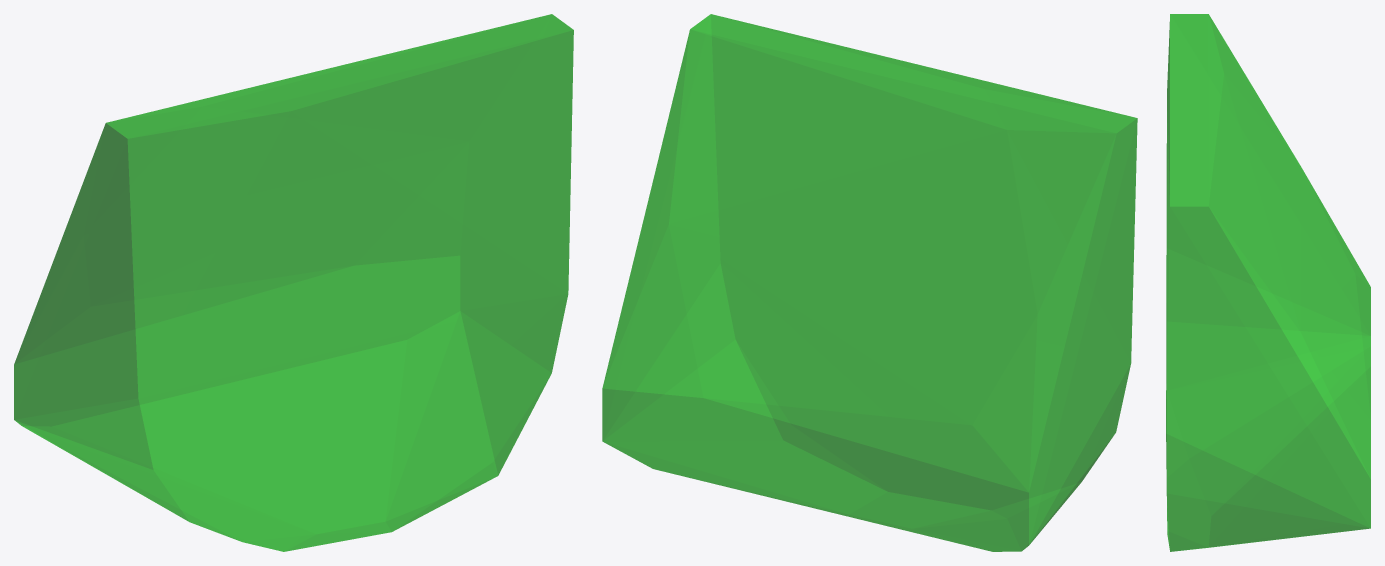
3 renders of one model, left to right at view 1: azimuth 30°, elevation 25°; view 2: azimuth 150°, elevation 25°; view 3: azimuth 270°, elevation 25°, orthographic. The views are drawn at different scales.
Visible parts, largest first — view 1: Shape_IndexedFaceSet.034_Shape_IndexedFaceSet.11826; view 2: Shape_IndexedFaceSet.034_Shape_IndexedFaceSet.11826; view 3: Shape_IndexedFaceSet.034_Shape_IndexedFaceSet.11826.
Part boxes in pixels (x1=…): Shape_IndexedFaceSet.034_Shape_IndexedFaceSet.11826: x1=14, y1=14, x2=573, y2=551; Shape_IndexedFaceSet.034_Shape_IndexedFaceSet.11826: x1=602, y1=14, x2=1137, y2=551; Shape_IndexedFaceSet.034_Shape_IndexedFaceSet.11826: x1=1166, y1=14, x2=1370, y2=551.
Bounding box in the file's own units: 0.2972 × 0.2972 × 0.1336.
